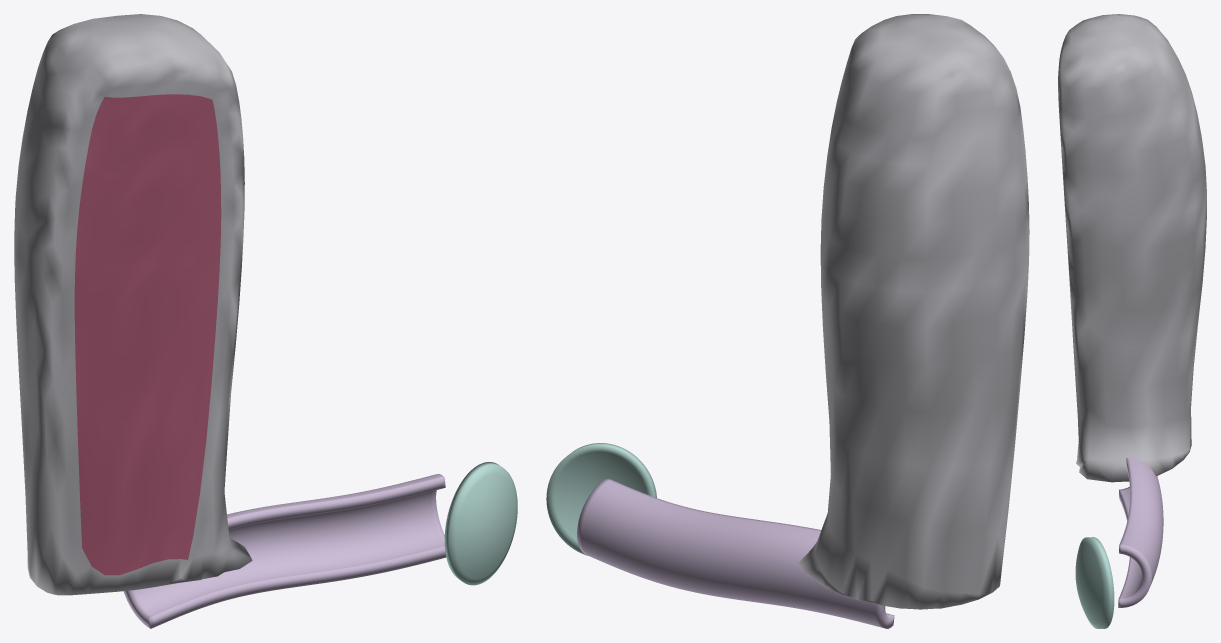
The model's file is ear.glb.
The picture shows the model from 3 angles, left to right: view 1: azimuth 30°, elevation 25°; view 2: azimuth 150°, elevation 25°; view 3: azimuth 270°, elevation 25°; orthographic projection. The views are drawn at different scales.
Visible parts, largest first — view 1: Native rabbit ear | original white and pink surface, EarCanal | connected thick horizontal cutaway, Eardrum | curved symbolic membrane; view 2: Native rabbit ear | original white and pink surface, EarCanal | connected thick horizontal cutaway, Eardrum | curved symbolic membrane; view 3: Native rabbit ear | original white and pink surface, EarCanal | connected thick horizontal cutaway, Eardrum | curved symbolic membrane.
Part boxes in pixels (box(x1,y1,x2,y2)): Native rabbit ear | original white and pink surface: box(14, 14, 252, 595); EarCanal | connected thick horizontal cutaway: box(123, 474, 446, 628); Eardrum | curved symbolic membrane: box(444, 462, 517, 585); Native rabbit ear | original white and pink surface: box(798, 14, 1029, 609); EarCanal | connected thick horizontal cutaway: box(577, 478, 894, 628); Eardrum | curved symbolic membrane: box(546, 443, 656, 555); Native rabbit ear | original white and pink surface: box(1058, 14, 1206, 482); EarCanal | connected thick horizontal cutaway: box(1118, 458, 1163, 607); Eardrum | curved symbolic membrane: box(1075, 537, 1114, 628).
Bounding box in the file's own units: 1.06 × 1.32 × 0.3777.
